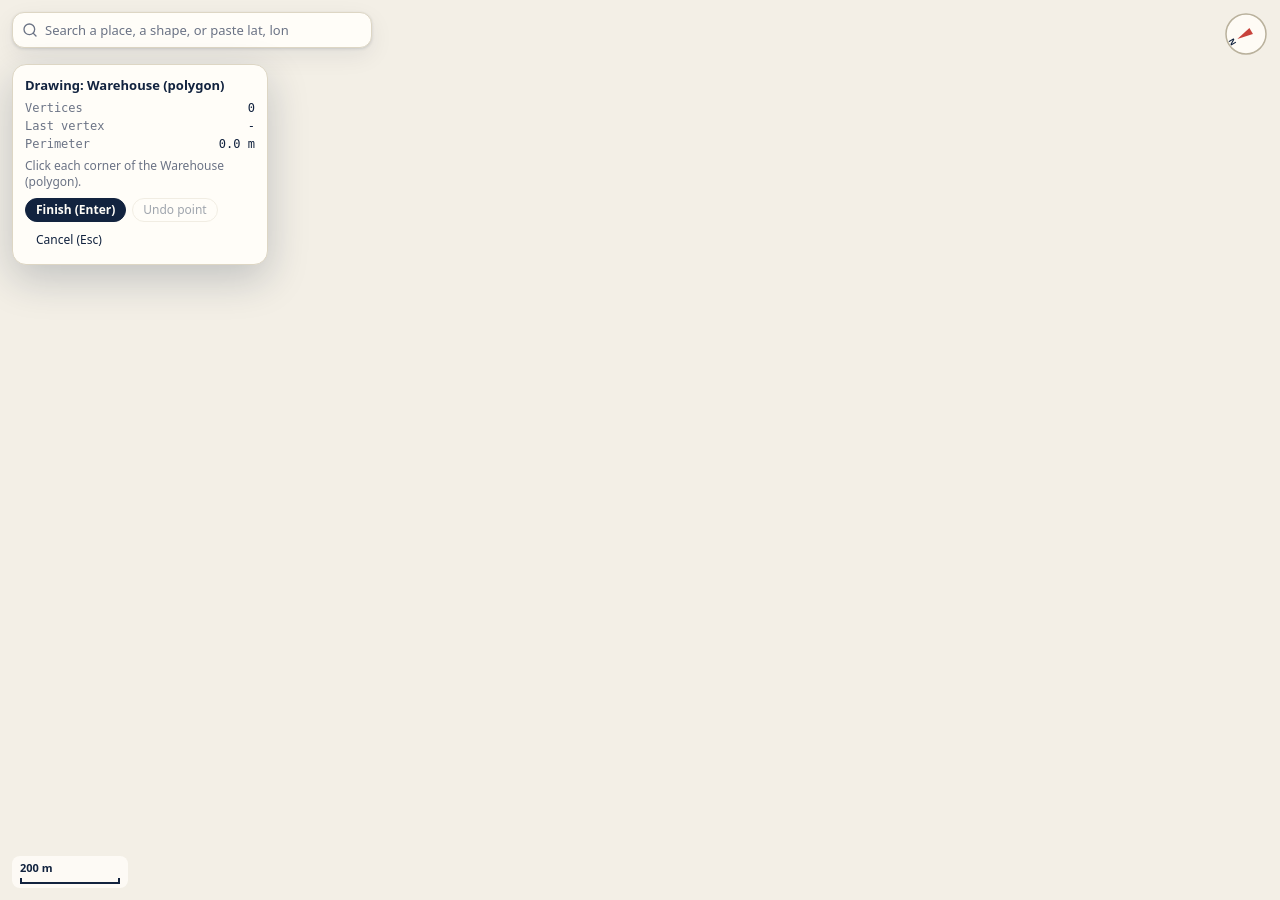
Scenario: drawing › warns in the readout while the outline crosses itself
Step 1. Press the mouse on the picture named "Plan of the port" → (640, 450), box [0,0,1279,899]
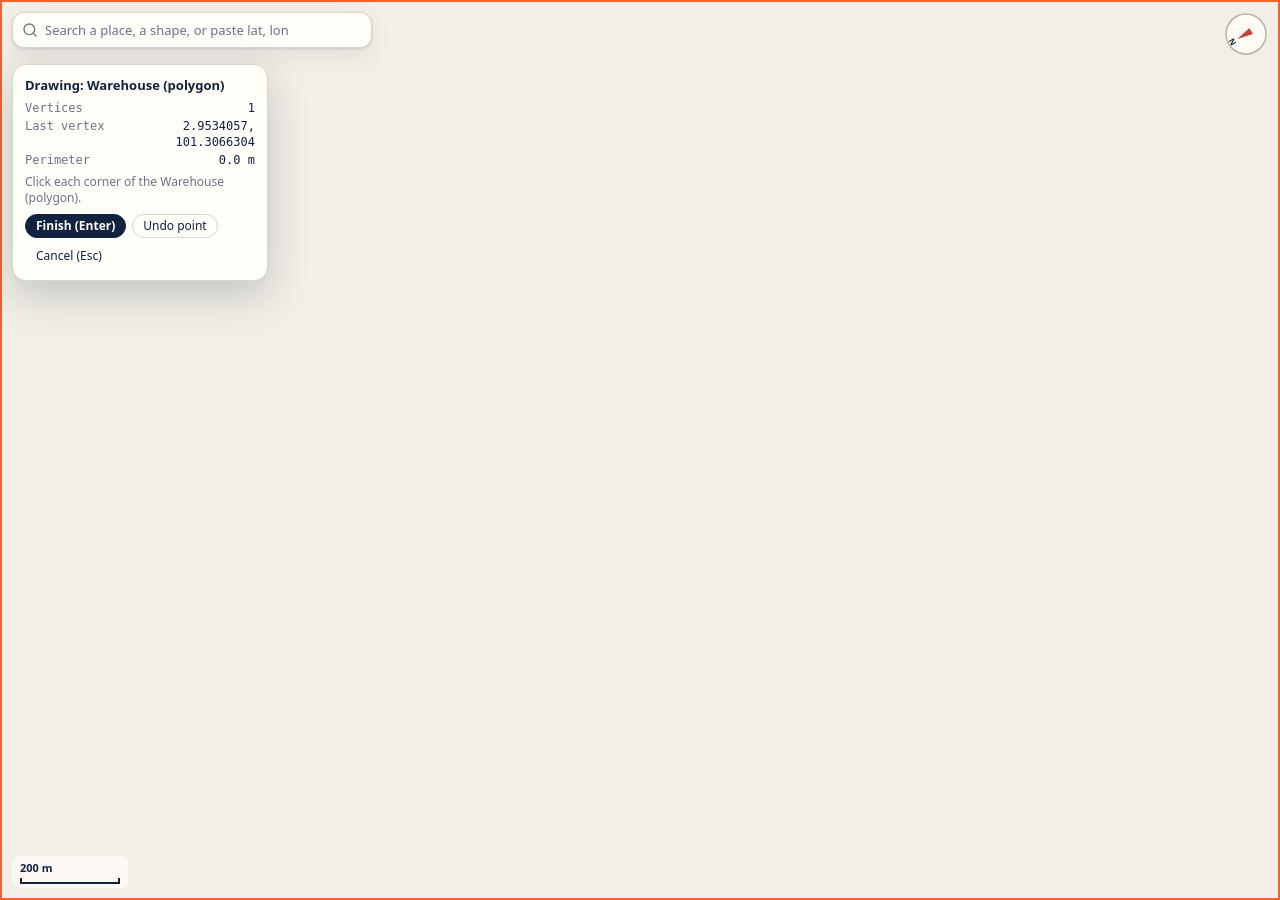
Step 2. Press the mouse on the picture named "Plan of the port" → (640, 450), box [0,0,1279,899]
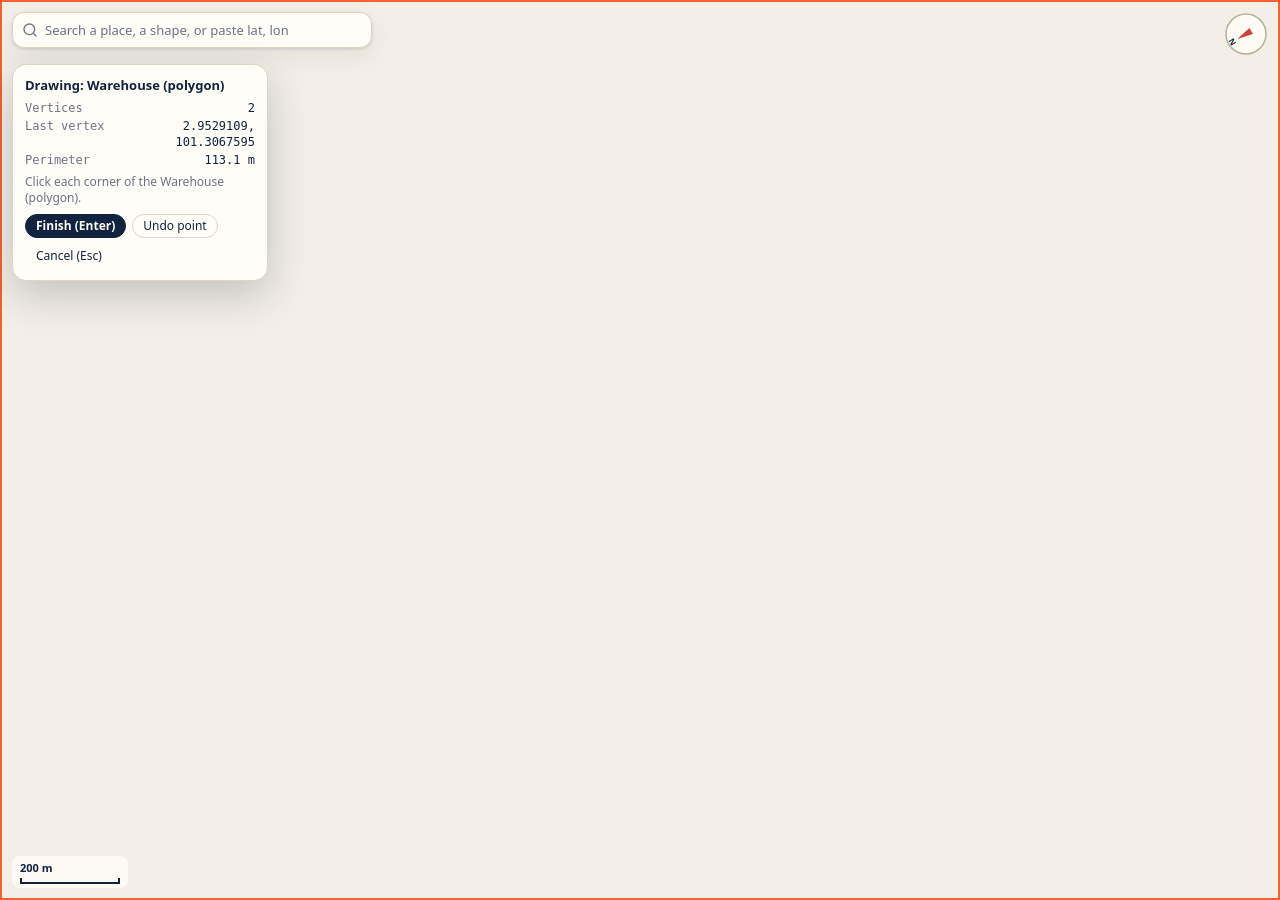
Step 3. Press the mouse on the picture named "Plan of the port" → (640, 450), box [0,0,1279,899]
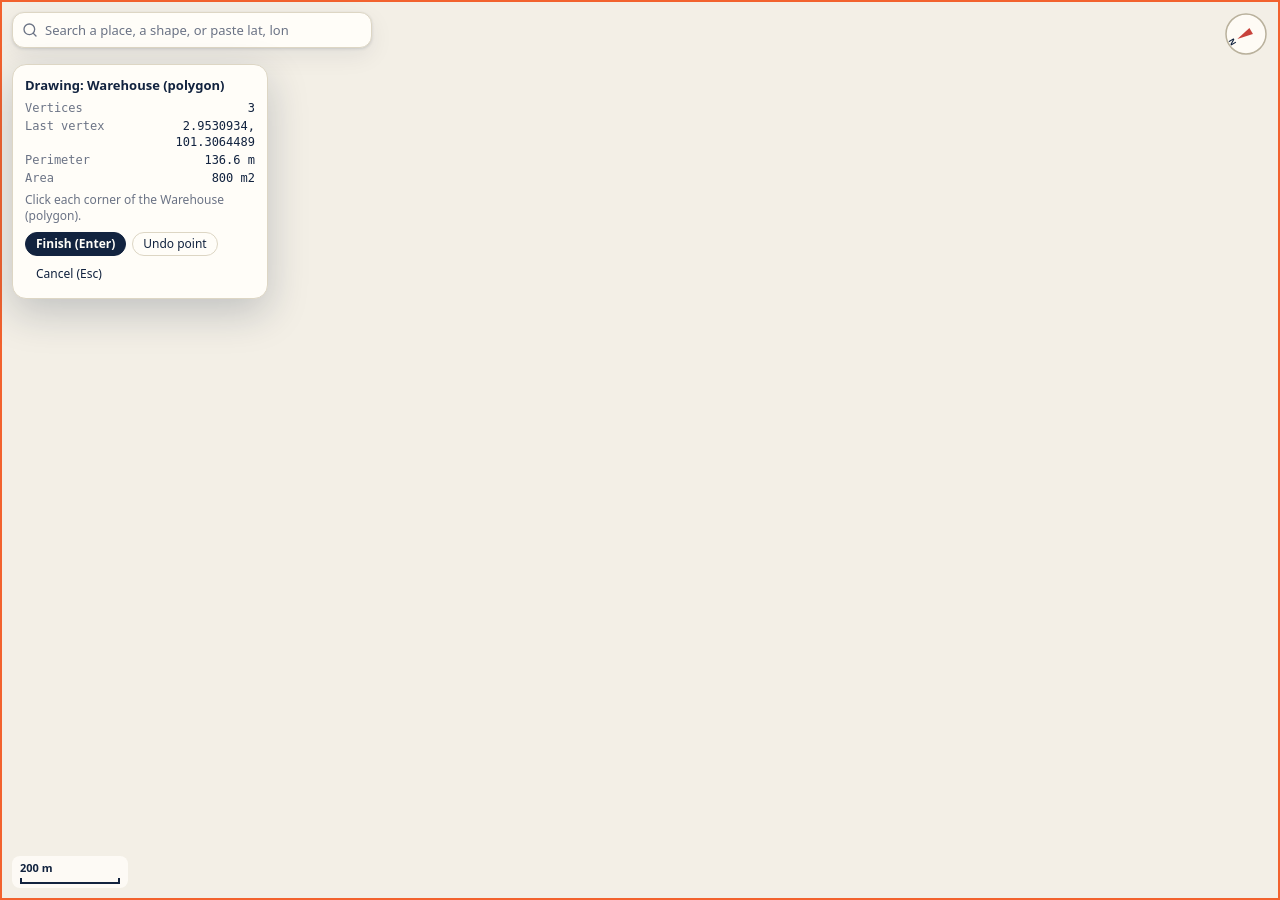
Step 4. Press the mouse on the picture named "Plan of the port" → (640, 450), box [0,0,1279,899]
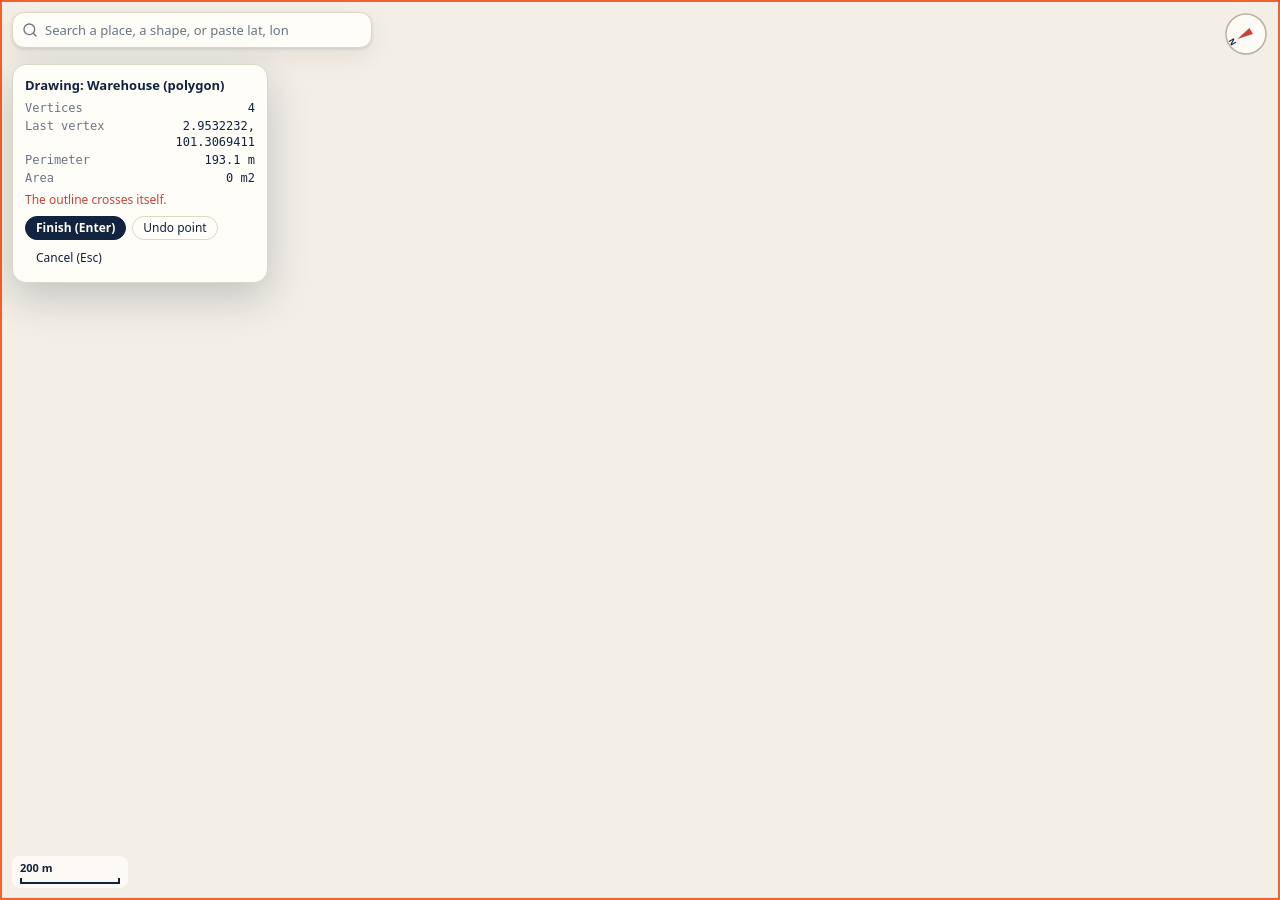
Now the message reads "The outline crosses itself.", box [25,191,166,208]
